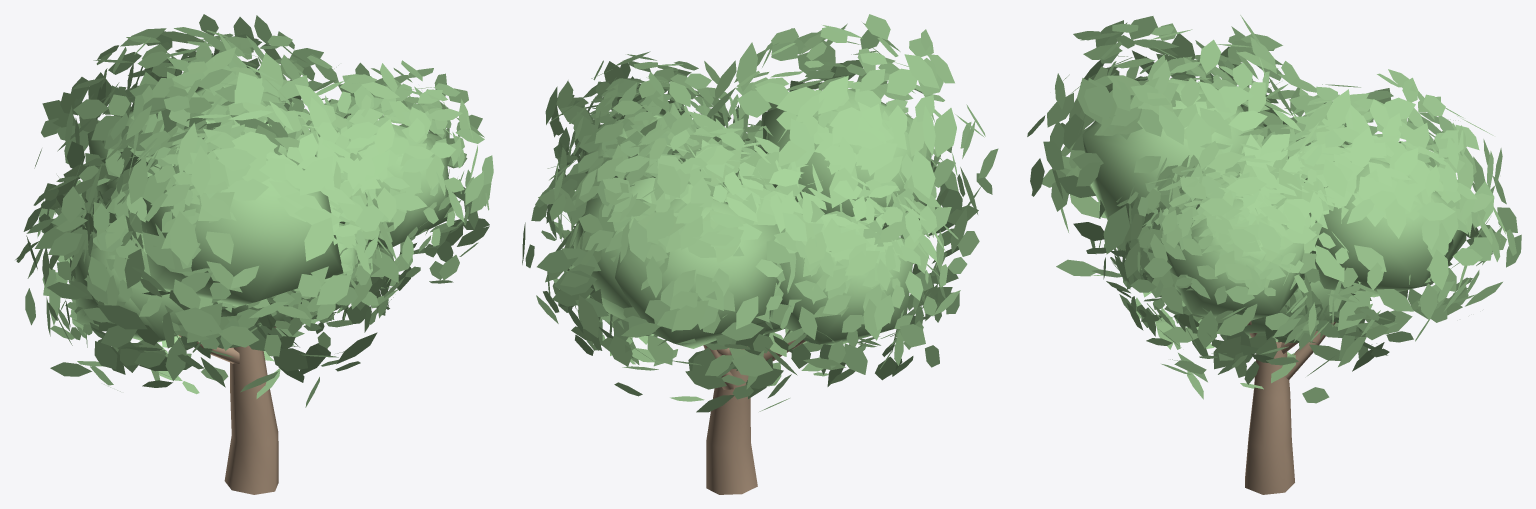
File: tree_oak_A.glb
The picture shows the model from 3 angles, left to right: view 1: azimuth 30°, elevation 25°; view 2: azimuth 150°, elevation 25°; view 3: azimuth 270°, elevation 25°; orthographic projection. The views are drawn at different scales.
Visible parts, largest first — view 1: tree_oak_A; view 2: tree_oak_A; view 3: tree_oak_A.
Boxes of the visible parts, bbox=[...] form: tree_oak_A: bbox=[15, 14, 493, 494]; tree_oak_A: bbox=[522, 14, 998, 494]; tree_oak_A: bbox=[1027, 15, 1521, 494].
Bounding box in the file's own units: 1.77 × 1.81 × 1.88.
